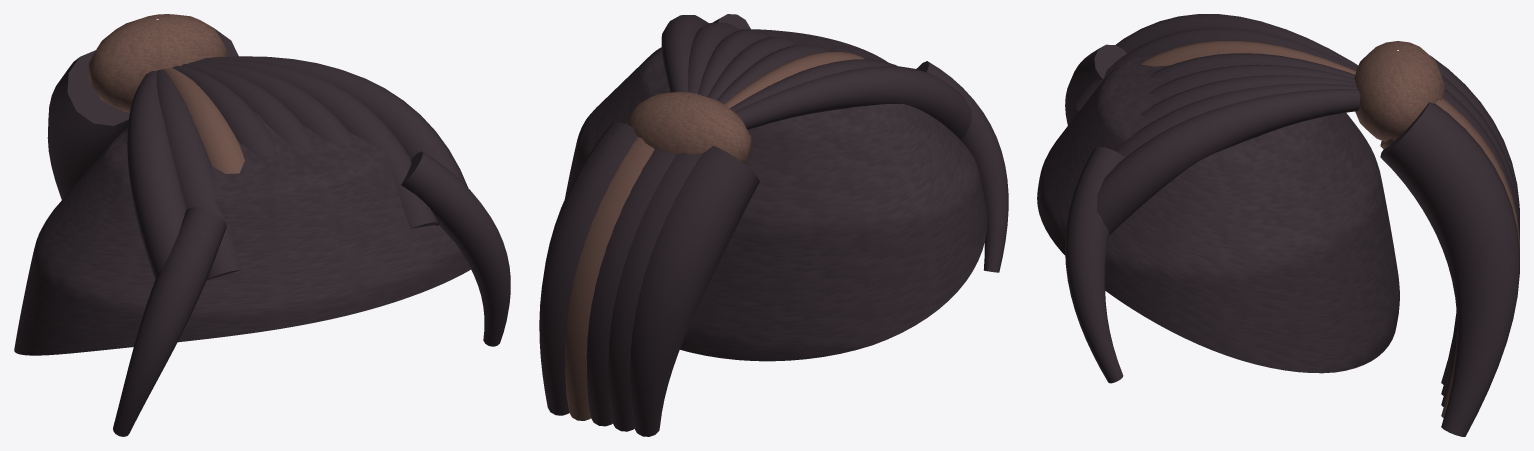
Rendered from hair_ponytail_short.gltf.
3 renders of one model, left to right at view 1: azimuth 30°, elevation 25°; view 2: azimuth 150°, elevation 25°; view 3: azimuth 270°, elevation 25°, orthographic. The views are drawn at different scales.
Visible parts, largest first — view 1: High Ponytail short; view 2: High Ponytail short; view 3: High Ponytail short.
Boxes of the visible parts, x1=… form: High Ponytail short: x1=14, y1=14, x2=510, y2=436; High Ponytail short: x1=539, y1=14, x2=1008, y2=436; High Ponytail short: x1=1037, y1=14, x2=1519, y2=436.
Size of the model in its own units: 0.4685 by 0.3655 by 0.4789.
2 materials, 2 textured.
